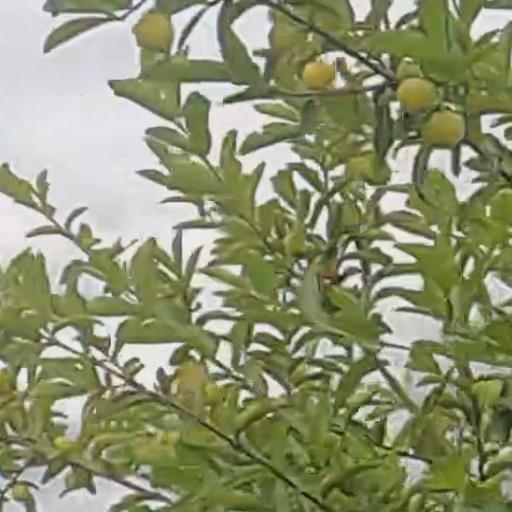acerola_verde: (424, 111, 466, 147), (398, 78, 437, 110), (305, 62, 331, 91)
